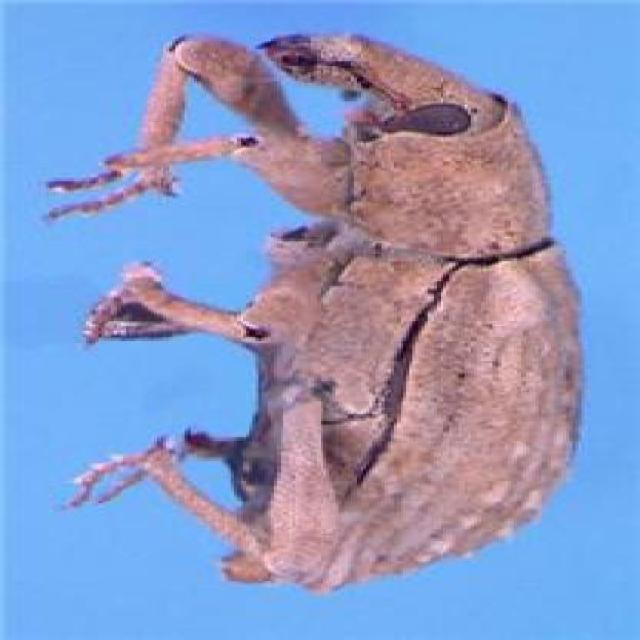rice-bug: (79, 32, 590, 594)
